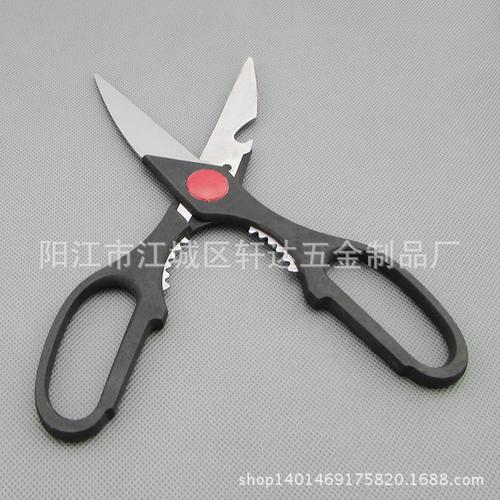scissor: (32, 55, 469, 442)
